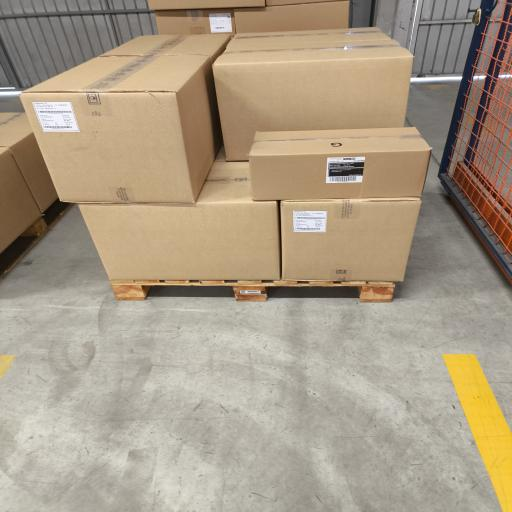pallet: (110, 281, 395, 302), (0, 201, 73, 280)
